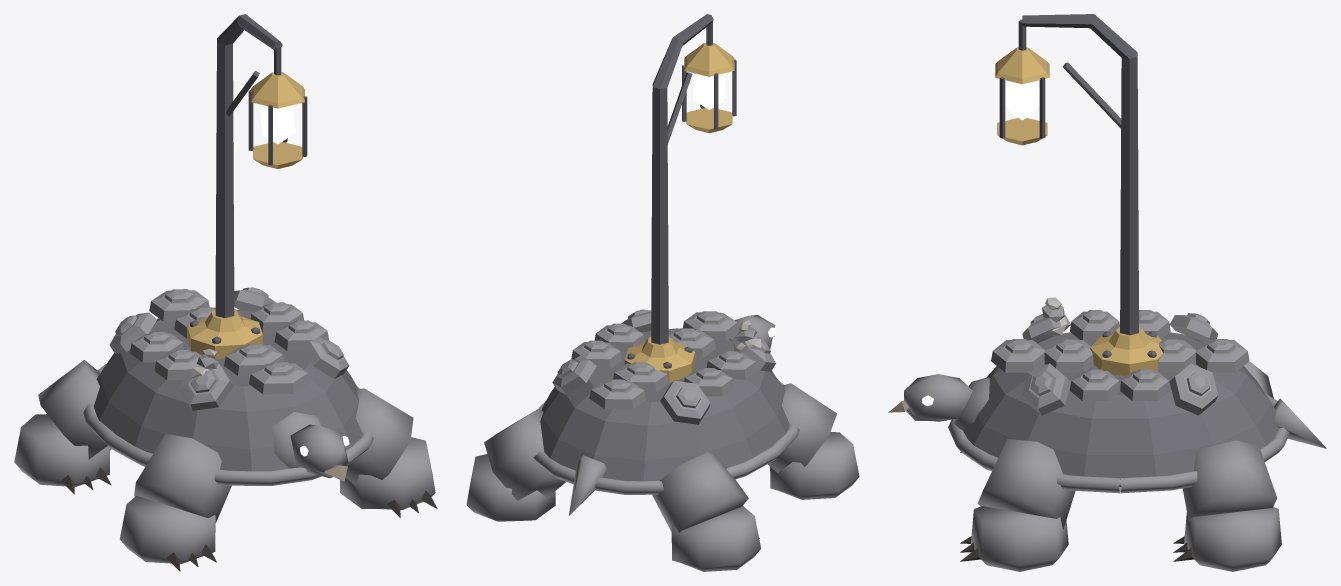
The model's file is tortoise-keystone-of-the-post.glb.
The picture shows the model from 3 angles, left to right: view 1: azimuth 30°, elevation 25°; view 2: azimuth 150°, elevation 25°; view 3: azimuth 270°, elevation 25°; orthographic projection. The views are drawn at different scales.
Parts seen in each view (by area): view 1: tortoise_tortoise-keystone-of-the-post; view 2: tortoise_tortoise-keystone-of-the-post; view 3: tortoise_tortoise-keystone-of-the-post.
Boxes of the visible parts, x1,y1,x2,y2 form: tortoise_tortoise-keystone-of-the-post: [14, 14, 437, 571]; tortoise_tortoise-keystone-of-the-post: [466, 14, 859, 571]; tortoise_tortoise-keystone-of-the-post: [888, 14, 1326, 571].
Bounding box in the file's own units: 0.7568 × 1.15 × 0.942.
